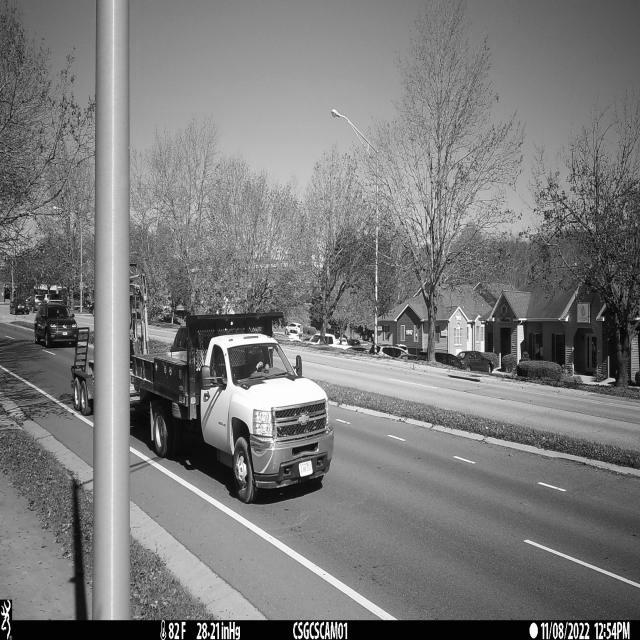Box Truck: (71, 329, 94, 416), (130, 383, 144, 412)
Pickup- Utility: (131, 313, 334, 503)
